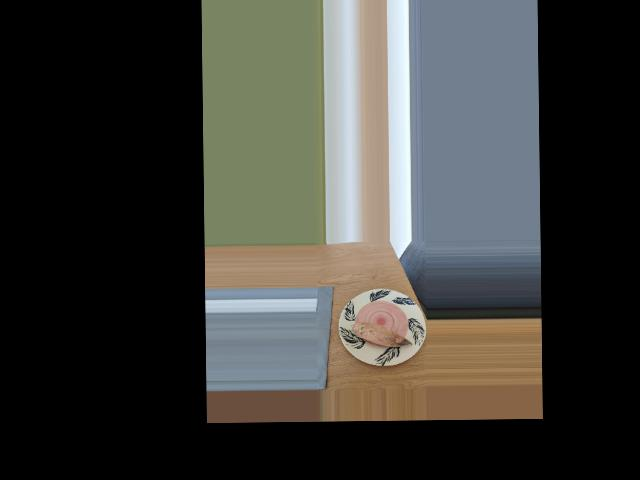sweet_potato: (353, 318, 406, 352)
